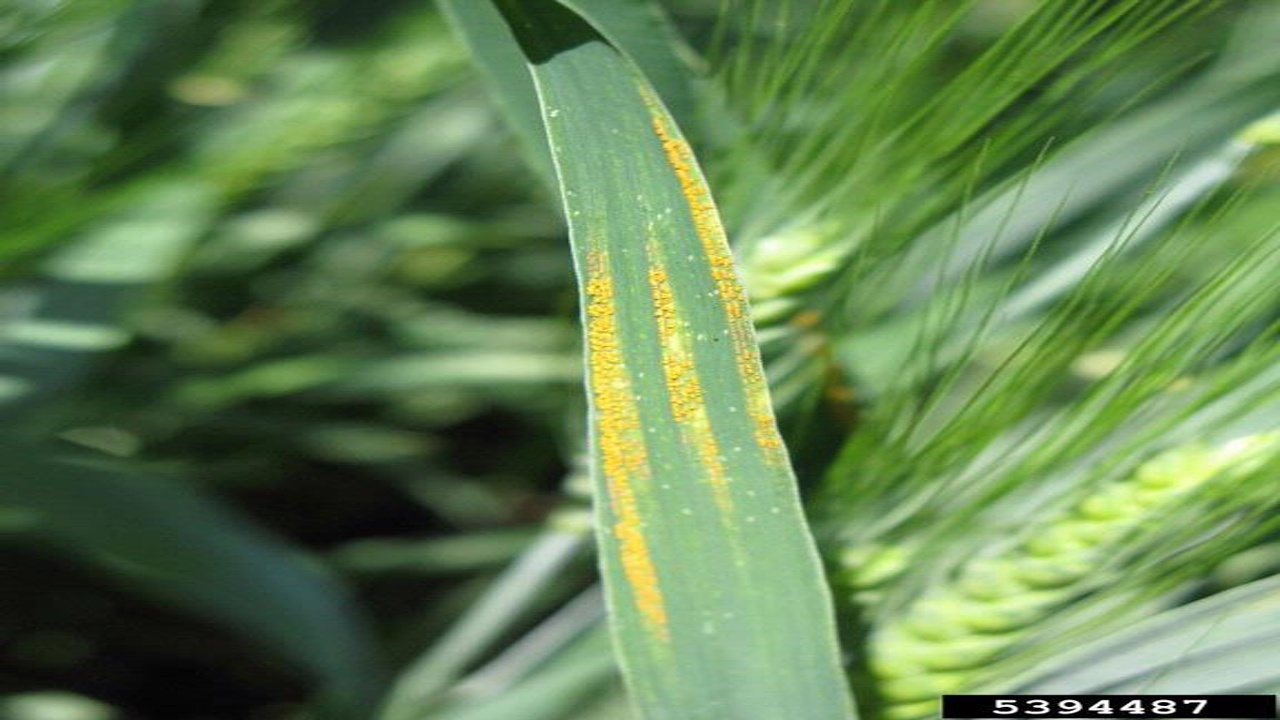stripe_rust: (498, 1, 855, 718)
